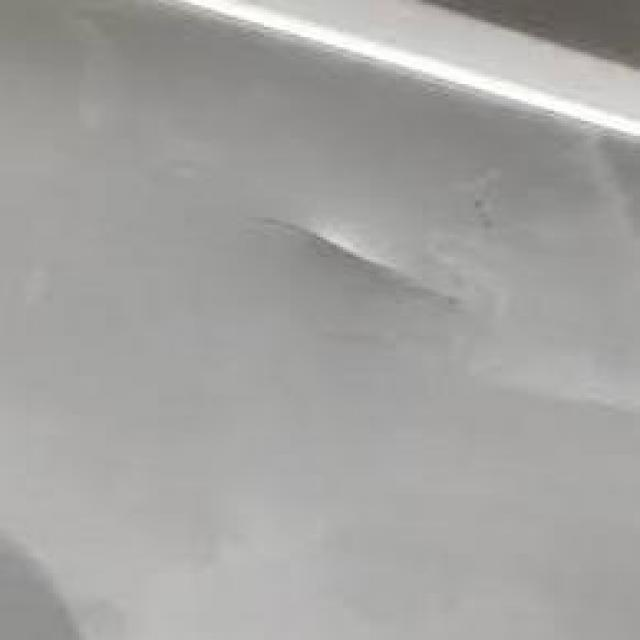dent: (252, 200, 503, 334)
